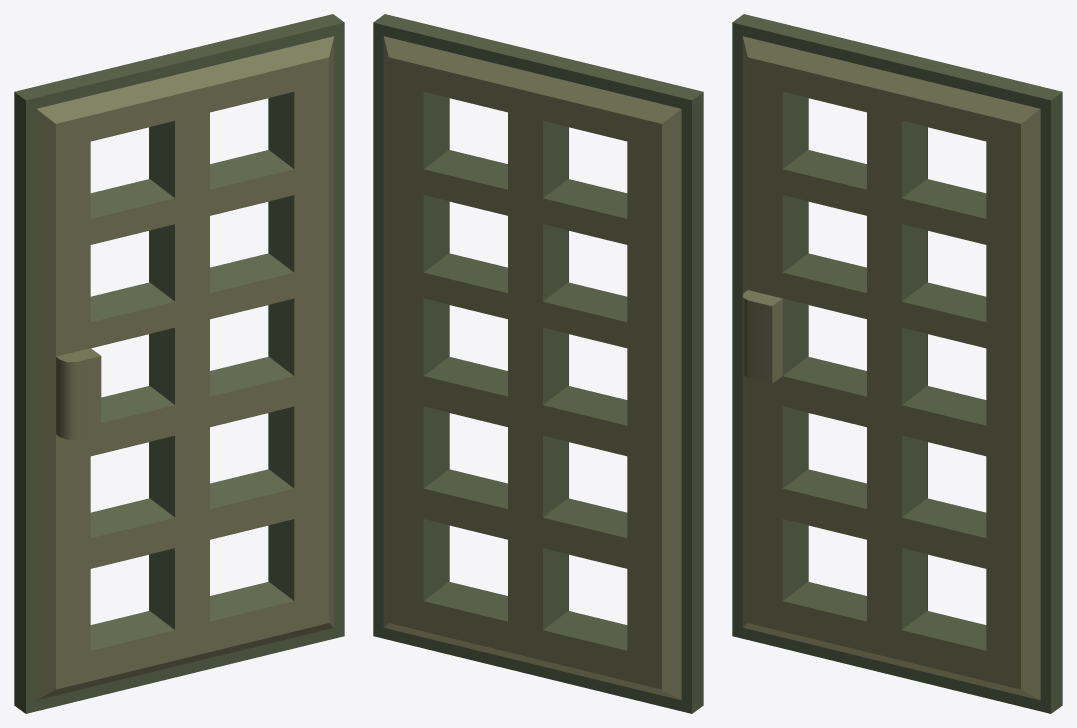
The model's file is grid_door.fbx.
3 renders of one model, left to right at view 1: azimuth 30°, elevation 25°; view 2: azimuth 150°, elevation 25°; view 3: azimuth 330°, elevation 25°, orthographic.
Visible parts, largest first — view 1: grid_door; view 2: grid_door; view 3: grid_door.
Boxes of the visible parts, x1,y1,x2,y2 form: grid_door: [14, 14, 344, 713]; grid_door: [373, 14, 703, 713]; grid_door: [732, 14, 1062, 713].
Size of the model in its own units: 1.96 by 3.6 by 0.3885.
